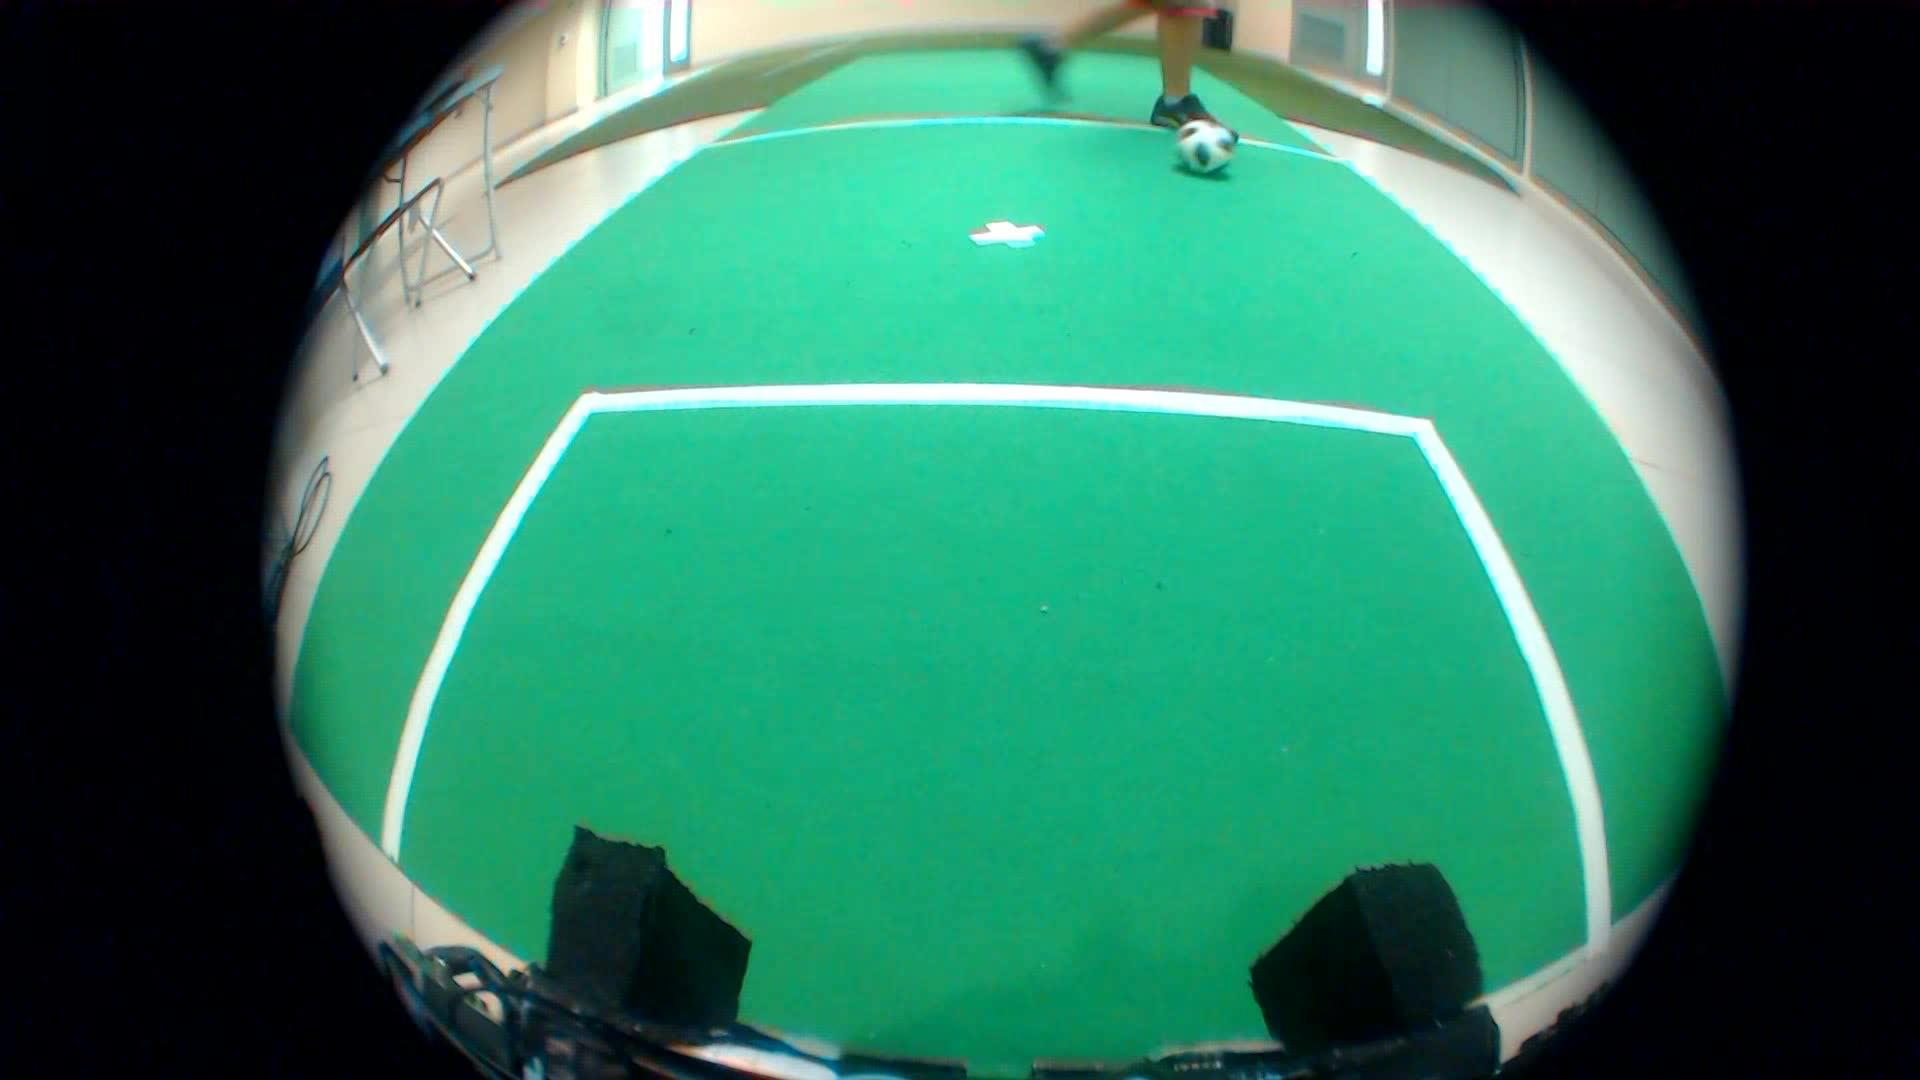ball: (1167, 102, 1238, 185)
